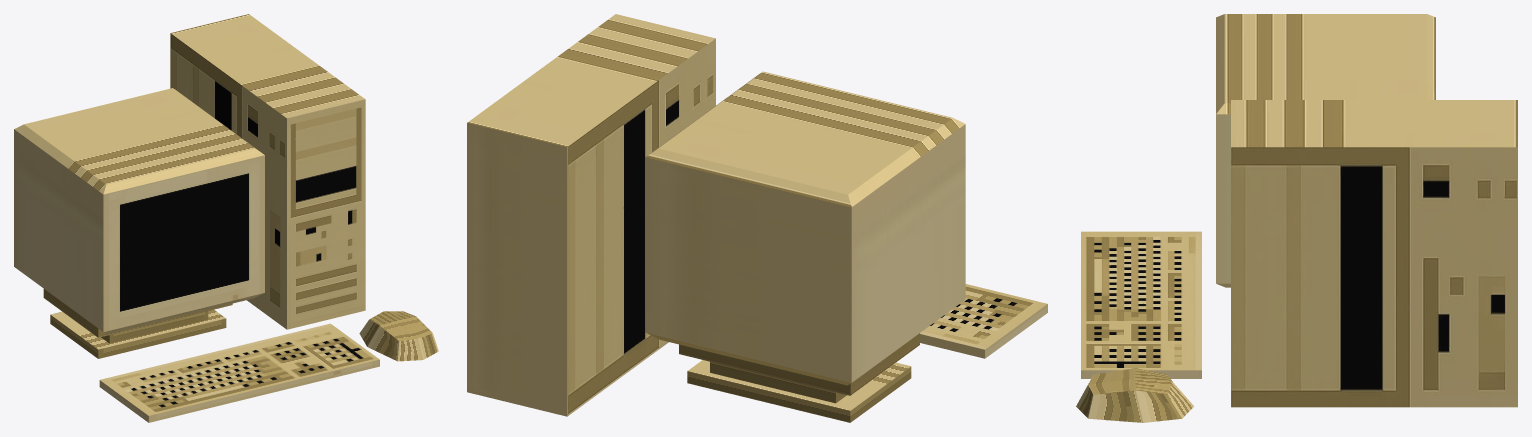
The model's file is PSX PC Full Set .fbx.
3 views of the same model, side by side, from view 1: azimuth 30°, elevation 25°; view 2: azimuth 150°, elevation 25°; view 3: azimuth 270°, elevation 25° (orthographic). The views are drawn at different scales.
Visible parts, largest first — view 1: Cube.002, Cube.001, Cube.006, Cube, Cube.005, Cube.004, Cube.003; view 2: Cube.002, Cube.001, Cube.006, Cube.005, Cube.003, Cube.004; view 3: Cube.001, Cube.002, Cube.006, Cube.
Boxes of the visible parts, box(x1,y1,x2,y2) form: Cube.002: box(14, 88, 264, 333); Cube.001: box(170, 14, 365, 329); Cube.006: box(99, 323, 379, 422); Cube: box(359, 311, 438, 361); Cube.005: box(50, 309, 226, 358); Cube.004: box(101, 311, 208, 343); Cube.003: box(43, 289, 232, 337); Cube.002: box(645, 71, 965, 385); Cube.001: box(467, 14, 715, 416); Cube.006: box(920, 284, 1047, 358); Cube.005: box(687, 360, 911, 422); Cube.003: box(679, 333, 919, 395); Cube.004: box(710, 361, 846, 403); Cube.001: box(1231, 100, 1517, 407); Cube.002: box(1216, 14, 1435, 287); Cube.006: box(1081, 231, 1201, 378); Cube: box(1076, 368, 1193, 422).
Bounding box in the file's own units: 267 × 182 × 277.
